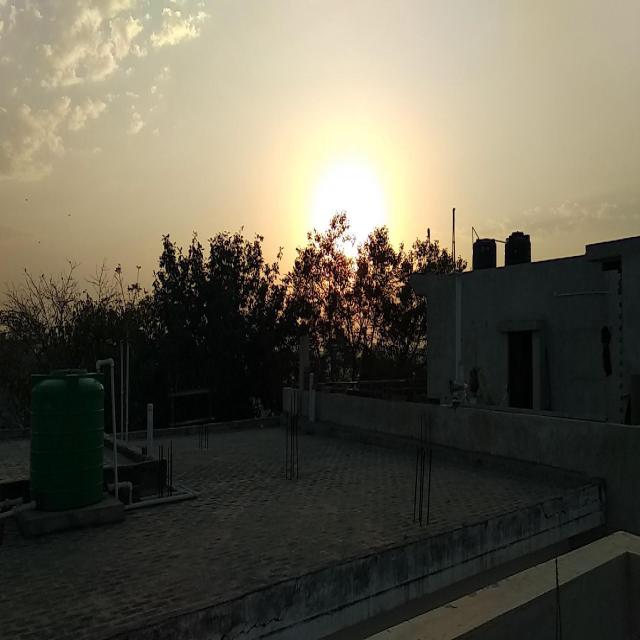other: (290, 128, 391, 293)
